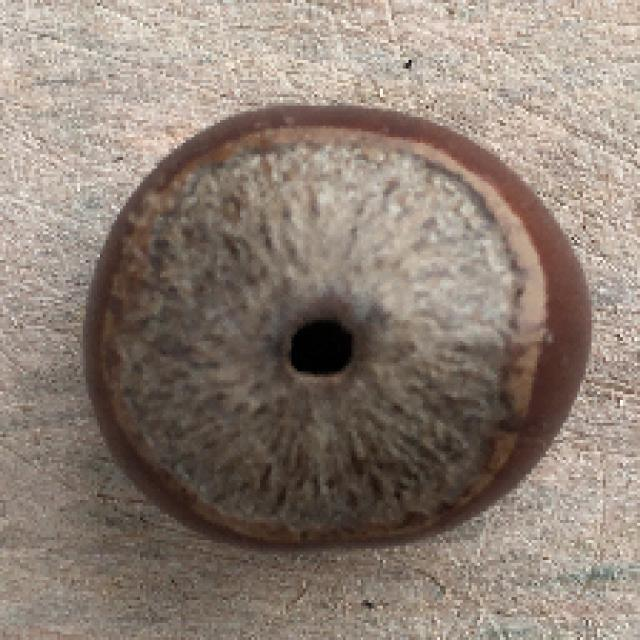damagedHazelnut: (81, 93, 598, 557)
